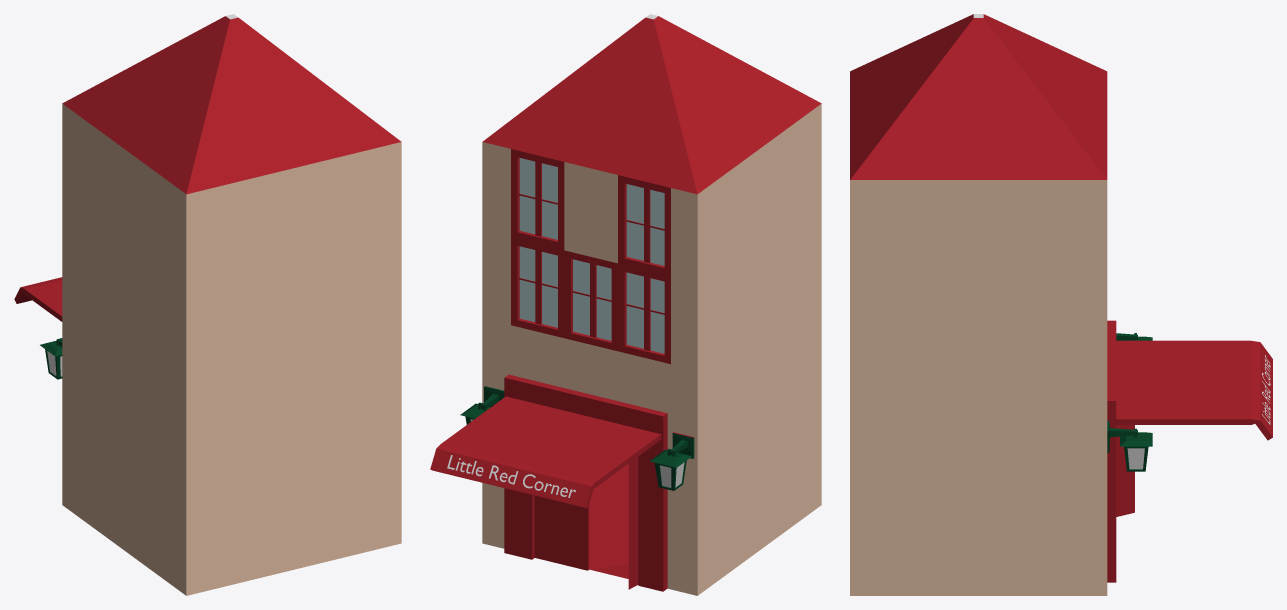
The model's file is terras1 (1).fbx.
3 renders of one model, left to right at view 1: azimuth 30°, elevation 25°; view 2: azimuth 150°, elevation 25°; view 3: azimuth 270°, elevation 25°, orthographic. The views are drawn at different scales.
Parts seen in each view (by area): view 1: Cube.001, Cube.002, Cube.003, Plane, Cube.011; view 2: Cube.001, Cube.002, Cube.003, Plane, Cube.033, Cube.031, Cube.028, Cube.032, Cube.027, Cube.008, Cube.005, Cube.004 (+9 smaller); view 3: Cube.001, Cube.002, Cube.003, Plane, Cube.016.
Part boxes in pixels (x1,y1,x2,y2): Cube.001: (62, 280, 401, 595); Cube.002: (62, 104, 401, 370); Cube.003: (62, 16, 401, 194); Plane: (14, 277, 62, 321); Cube.011: (40, 338, 62, 379); Cube.001: (482, 280, 821, 595); Cube.002: (482, 104, 821, 370); Cube.003: (482, 16, 821, 194); Plane: (430, 396, 661, 508); Cube.033: (626, 184, 664, 265); Cube.031: (519, 158, 557, 239); Cube.028: (573, 259, 611, 340); Cube.032: (626, 272, 664, 353); Cube.027: (519, 246, 557, 327); Cube.008: (511, 149, 564, 250); Cube.005: (564, 250, 617, 351); Cube.004: (511, 237, 564, 337); Cube.001: (850, 320, 1134, 595); Cube.002: (850, 180, 1107, 362); Cube.003: (850, 14, 1107, 179); Plane: (1116, 340, 1272, 440); Cube.016: (1120, 428, 1152, 471).
Size of the model in its own units: 382 by 856 by 624.
